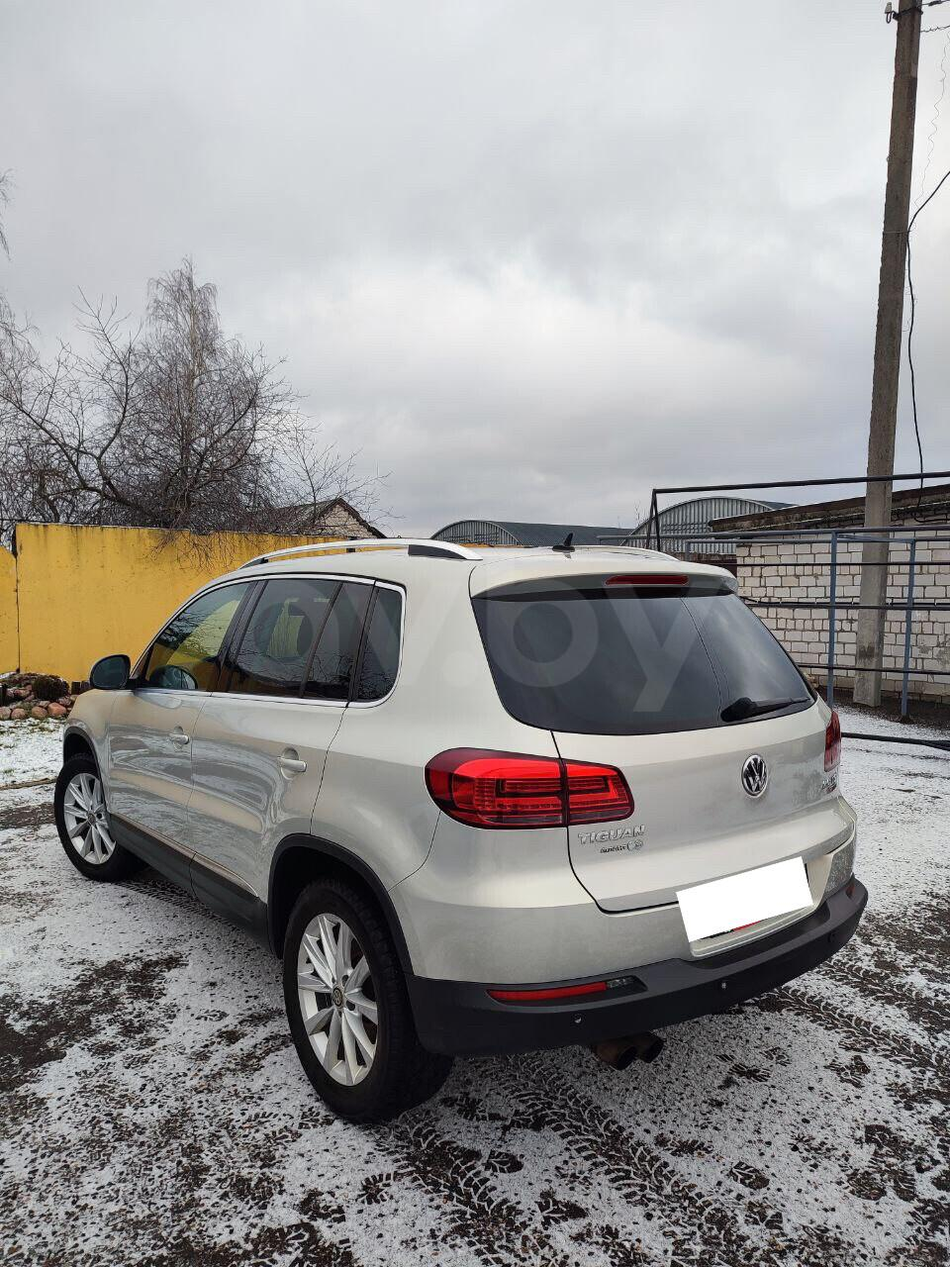Tiguan_2011-2018: (51, 543, 871, 1115)
